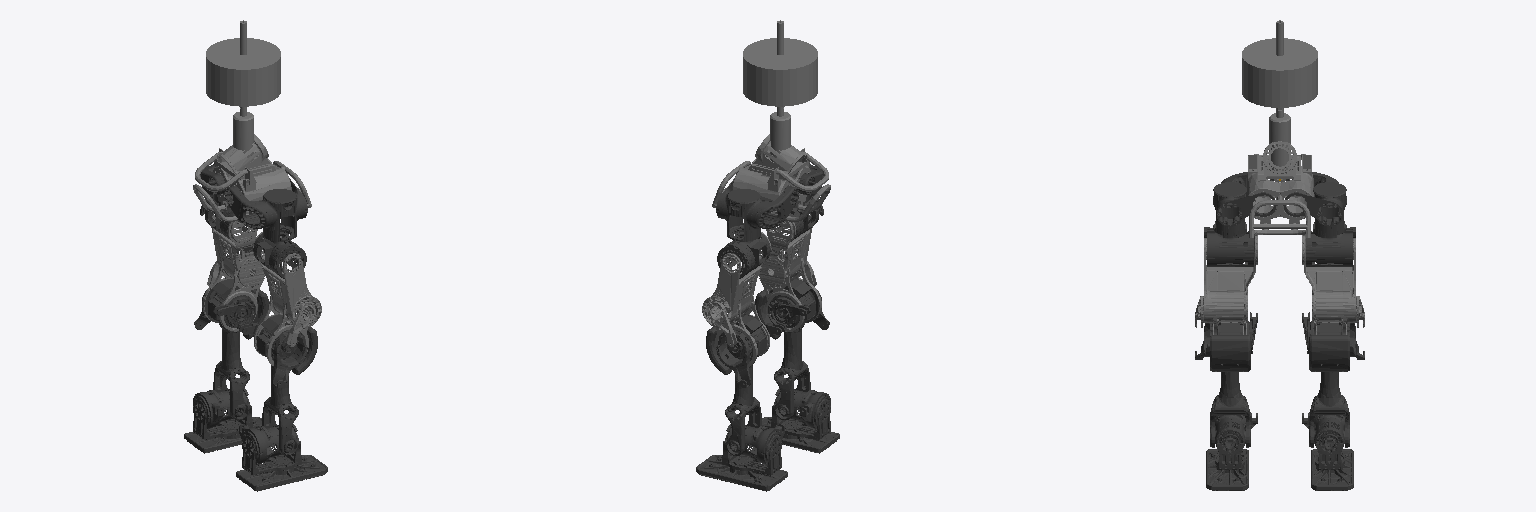
--- Facts derived from the render (not from the file) ---
Views: 3 orthographic renders of the robot side by side, from view 1: azimuth 30°, elevation 25°; view 2: azimuth 150°, elevation 25°; view 3: azimuth 270°, elevation 25°.
Robot: bigman — 33 links, 32 joints (12 revolute, 20 fixed); root link Waist; default pose: all joints at 0.
Visible links, largest first — view 1: ExtraWeight, LLowLeg, RLowLeg, Waist, RThighLowLeg, LThighLowLeg, RHipMot, RFoot, LFoot, RThighUpLeg, PelvisWeightBench, RFootmot (+1 smaller); view 2: ExtraWeight, RLowLeg, LLowLeg, Waist, LThighLowLeg, RThighLowLeg, LHipMot, LFoot, RFoot, PelvisWeightBench, LThighUpLeg, LFootmot (+1 smaller); view 3: ExtraWeight, Waist, RLowLeg, LLowLeg, RThighLowLeg, LThighLowLeg, RHipMot, LHipMot, RFoot, LFoot, RThighUpLeg, LThighUpLeg (+3 smaller).
Boxes of the visible links, x1,y1,x2,y2 form: ExtraWeight: (206, 38, 280, 106); LLowLeg: (194, 279, 268, 420); RLowLeg: (239, 315, 317, 455); Waist: (193, 134, 311, 222); RThighLowLeg: (252, 232, 321, 365); LThighLowLeg: (202, 212, 264, 331); RHipMot: (225, 178, 307, 241); RFoot: (236, 432, 327, 491); LFoot: (184, 396, 261, 453); RThighUpLeg: (253, 232, 306, 278); PelvisWeightBench: (218, 20, 268, 176); RFootmot: (239, 424, 297, 464); ExtraWeight: (743, 38, 817, 106); RLowLeg: (755, 279, 829, 420); LLowLeg: (706, 315, 784, 455); Waist: (712, 134, 830, 222); LThighLowLeg: (702, 232, 771, 365); RThighLowLeg: (759, 212, 821, 331); LHipMot: (716, 178, 798, 241); LFoot: (696, 432, 787, 491); RFoot: (762, 396, 839, 453); PelvisWeightBench: (755, 20, 805, 176); LThighUpLeg: (717, 232, 770, 278); LFootmot: (726, 424, 784, 464); ExtraWeight: (1242, 38, 1317, 107); Waist: (1246, 141, 1313, 237); RLowLeg: (1195, 312, 1257, 447); LLowLeg: (1302, 312, 1364, 447); RThighLowLeg: (1195, 235, 1257, 334); LThighLowLeg: (1302, 235, 1364, 334); RHipMot: (1213, 172, 1276, 237); LHipMot: (1283, 172, 1346, 237); RFoot: (1206, 426, 1248, 490); LFoot: (1311, 426, 1353, 490); RThighUpLeg: (1204, 227, 1253, 266); LThighUpLeg: (1306, 227, 1355, 266).
Size in the robot's own frame: 0.4355 by 0.6161 by 1.79 metres.
Meshes: 8 distinct files referenced, 14 mesh visuals loaded (8 binary STL).

URDF robot description (bigman):
<?xml version="1.0" ?>
<!-- =================================================================================== -->
<!-- |    This document was autogenerated by xacro from bigman_floating_base_lower_body.urdf.xacro | -->
<!-- |    EDITING THIS FILE BY HAND IS NOT RECOMMENDED                                 | -->
<!-- =================================================================================== -->
<robot name="bigman" xmlns:xacro="http://ros.org/wiki/xacro">
  <!--
  ROS urdf definition of the BIGMAN humanoid robot by Istituto Italiano di Tecnologia
  
  Author: Enrico Mingo
  
  This file groups files to use BIGMAN in GAZEBO
  
  -->
  <!-- Uncomment this to have the robot rigidly connected to the world -->
  <!--<link name="world"/>-->
  <!---->
  <!--<joint name="floating_base" type="floating">-->
  <!--<parent link="world"/>-->
  <!--<child link="base_link"/>-->
  <!--</joint>-->
  <!--<origin xyz="0.0 0.0 1.17" rpy="0 0 0" /> -->
  <!-- ROBOT -->
  <!-- 
  ROS urdf definition of the BIGMAN humanoid robot by Istituto Italiano di Tecnologia
  
  DO NOT INCLUDE THIS FILE DIRECTLY! USE bigman_robot.urdf.xacro INSTEAD!

  Author: Enrico Mingo & Alessio Rocchi

  Inertial matrix has to be in CoM frame (URDF specs)

  Velocity and effort limits are fake!
-->
  <!-- contact urdf for foot surface -->
  <gazebo reference="LFoot">
    <kp>1000000.0</kp>
    <kd>100.0</kd>
    <mu1>1.0</mu1>
    <mu2>1.0</mu2>
    <fdir1>1 0 0</fdir1>
    <maxVel>1.0</maxVel>
    <minDepth>0.0</minDepth>
  </gazebo>
  <gazebo reference="RFoot">
    <kp>1000000.0</kp>
    <kd>100.0</kd>
    <mu1>1.0</mu1>
    <mu2>1.0</mu2>
    <fdir1>1 0 0</fdir1>
    <maxVel>1.0</maxVel>
    <minDepth>0.0</minDepth>
  </gazebo>
  <gazebo reference="LLowLeg">
    <kp>1000000.0</kp>
    <kd>100.0</kd>
    <mu1>0.3</mu1>
    <mu2>0.3</mu2>
    <fdir1>1 0 0</fdir1>
    <maxVel>1.0</maxVel>
    <minDepth>0.0</minDepth>
  </gazebo>
  <gazebo reference="RLowLeg">
    <kp>1000000.0</kp>
    <kd>100.0</kd>
    <mu1>0.3</mu1>
    <mu2>0.3</mu2>
    <fdir1>1 0 0</fdir1>
    <maxVel>1.0</maxVel>
    <minDepth>0.0</minDepth>
  </gazebo>
  <!-- Other parameters... -->
  <gazebo reference="RHipSag">
    <implicitSpringDamper>1</implicitSpringDamper>
    <provideFeedback>true</provideFeedback>
  </gazebo>
  <gazebo reference="RHipLat">
    <implicitSpringDamper>1</implicitSpringDamper>
    <provideFeedback>true</provideFeedback>
  </gazebo>
  <gazebo reference="RHipYaw">
    <implicitSpringDamper>1</implicitSpringDamper>
    <provideFeedback>true</provideFeedback>
  </gazebo>
  <gazebo reference="RKneeSag">
    <implicitSpringDamper>1</implicitSpringDamper>
    <provideFeedback>true</provideFeedback>
  </gazebo>
  <gazebo reference="RAnkLat">
    <implicitSpringDamper>1</implicitSpringDamper>
    <provideFeedback>true</provideFeedback>
  </gazebo>
  <gazebo reference="RAnkSag">
    <implicitSpringDamper>1</implicitSpringDamper>
    <provideFeedback>true</provideFeedback>
  </gazebo>
  <gazebo reference="LHipSag">
    <implicitSpringDamper>1</implicitSpringDamper>
    <provideFeedback>true</provideFeedback>
  </gazebo>
  <gazebo reference="LHipLat">
    <implicitSpringDamper>1</implicitSpringDamper>
    <provideFeedback>true</provideFeedback>
  </gazebo>
  <gazebo reference="LHipYaw">
    <implicitSpringDamper>1</implicitSpringDamper>
    <provideFeedback>true</provideFeedback>
  </gazebo>
  <gazebo reference="LKneeSag">
    <implicitSpringDamper>1</implicitSpringDamper>
    <provideFeedback>true</provideFeedback>
  </gazebo>
  <gazebo reference="LAnkLat">
    <implicitSpringDamper>1</implicitSpringDamper>
    <provideFeedback>true</provideFeedback>
  </gazebo>
  <gazebo reference="LAnkSag">
    <implicitSpringDamper>1</implicitSpringDamper>
    <provideFeedback>true</provideFeedback>
  </gazebo>
  <material name="grey">
    <color rgba="0.5 0.5 0.5 1"/>
  </material>
  <material name="dark_grey">
    <color rgba="0.3 0.3 0.3 1"/>
  </material>
  <material name="blue">
    <color rgba="0.0 0.2 0.3 1"/>
  </material>
  <!--
      ROS urdf definition of the BIGMAN humanoid robot by Istituto Italiano di Tecnologia

      DO NOT INCLUDE THIS FILE DIRECTLY! USE bigman_robot.urdf.xacro INSTEAD!

      Author: Enrico Mingo & Alessio Rocchi

      Inertial matrix has to be in CoM frame (URDF specs)

      Velocity and effort limits are fake!
    -->
  <!--
    The coordinate frame called base_link is rigidly attached to the robot root body. It is recommended to choose the robot waist as its root body. The base_link can be attached to the root in any arbitrary position or orientation; for every hardware platform there will be a different place on the base that provides an obvious point of reference. Note that REP 103 [1] specifies a preferred orientation for frames. -->
  <!--<link name="base_link"/>-->
  <!--<joint name="base_joint" type="fixed">-->
  <!--<parent link="base_link"/>-->
  <!--<child link="Waist"/>-->
  <!--<origin xyz="0 0 0" rpy="0 0 0"/>-->
  <!--</joint>-->
  <link name="Waist">
    <inertial>
      <origin rpy="0.0 0.0 0.0" xyz="-0.022813402 -0.00073935443 0.030422909"/>
      <mass value="1.1046081e+01"/>
      <inertia ixx="0.096207978" ixy="0.00014081043" ixz="0.0031258127" iyy="0.098511158" iyz="0.00013938149" izz="0.086541531"/>
    </inertial>
    <visual>
      <origin rpy="0 0 0" xyz="0 0 0"/>
      <geometry name="Waist_visual">
        <mesh filename="meshes/Waist.STL" scale="0.001 0.001 0.001"/>
      </geometry>
      <material name="grey"/>
    </visual>
    <collision>
      <origin rpy="0 0 0" xyz="0 0 0"/>
      <geometry name="Waist_collision">
        <mesh filename="meshes/simple/Waist.STL" scale="0.001 0.001 0.001"/>
      </geometry>
    </collision>
  </link>
  <!-- ******************************************** -->
  <link name="PelvisWeightBench">
    <inertial>
      <origin rpy="0 0 0" xyz="0.0 0.0 0.18846109"/>
      <mass value="5.5278386"/>
      <inertia ixx="0.15195067" ixy="0.0" ixz="-2.419189e-07" iyy="0.15213465" iyz="0.0" izz="0.0051389419"/>
    </inertial>
    <visual>
      <origin rpy="0 0 0" xyz="0 0 0"/>
      <geometry name="PelvisWeightBench_visual">
        <mesh filename="meshes/PelvisWeightBench.STL" scale="0.001 0.001 0.001"/>
      </geometry>
      <material name="grey"/>
    </visual>
    <collision>
      <origin rpy="0 0 0" xyz="0 0 0"/>
      <geometry name="PelvisWeightBench_collision">
        <mesh filename="meshes/simple/PelvisWeightBench.STL" scale="0.001 0.001 0.001"/>
      </geometry>
    </collision>
  </link>
  <link name="ExtraWeight">
    <inertial>
      <origin rpy="0 0 0" xyz="0.0 0.0 0.075"/>
      <mass value="20.0"/>
      <inertia ixx="0.1355" ixy="0.0" ixz="0.0" iyy="0.1355" iyz="0.0" izz="0.196"/>
    </inertial>
    <visual>
      <origin rpy="0 0 0" xyz="0 0 0"/>
      <geometry name="ExtraWeight_visual">
        <cylinder length="0.15" radius="0.14"/>
      </geometry>
      <material name="grey"/>
    </visual>
    <collision>
      <origin rpy="0 0 0" xyz="0 0 0"/>
      <geometry name="ExtraWeight_collision">
        <cylinder length="0.15" radius="0.14"/>
      </geometry>
    </collision>
  </link>
  <joint name="PelvisWeightBench_joint" type="fixed">
    <parent link="Waist"/>
    <child link="PelvisWeightBench"/>
    <origin rpy="0 0 1.57079632679" xyz="-0.035 0 0.075"/>
  </joint>
  <joint name="ExtraWeight_joint" type="fixed">
    <parent link="PelvisWeightBench"/>
    <child link="ExtraWeight"/>
    <origin rpy="0 0 0" xyz="0.0 0 0.39"/>
  </joint>
  <!-- ********************LEGS******************** -->
  <!-- This links are defined in order to be compliant with http://www.ros.org/reps/rep-0120.html#coordinate-frames
        and to define the end effectors of the robot -->
  <!--  position and orientation of the leg regardless of the support body geometry -->
  <link name="l_ankle"/>
  <link name="r_ankle"/>
  <!-- position and orientation of the left leg support body. The (X,Y) plane of this frame must be coplanar with the support body contact surface. It is recommended to choose the origin as the projection of the support body origin on the contact surface. The Z coordinate of this frame should be on the ground level when standing. -->
  <link name="l_sole"/>
  <link name="r_sole"/>
  <!--  position and orientation of the leg toe body. The (X,Y) plan of this frame must be coplanar with the toe body contact surface. It is recommended to choose the origin as the projection of the body center on the contact surface. -->
  <link name="l_toe"/>
  <link name="r_toe"/>
  <!-- LINKS -->
  <!-- ********************RIGHT LEG******************** -->
  <link name="RHipMot">
    <inertial>
      <origin rpy="0 0 0" xyz="-0.10348188 -0.10919813 -0.064924056"/>
      <mass value="3.7958197"/>
      <inertia ixx="0.015639017" ixy="0.0018504661" ixz="0.0023907793" iyy="0.023519749" iyz="-0.0023303162" izz="0.020953643"/>
    </inertial>
    <visual>
      <origin rpy="0 0 0" xyz="0 0 0"/>
      <geometry name="RHipMot_visual">
        <mesh filename="meshes/HipRoll.STL" scale="0.001 0.001 0.001"/>
      </geometry>
      <material name="dark_grey"/>
    </visual>
    <collision>
      <origin rpy="0 0 0" xyz="0 0 0"/>
      <geometry name="RHipMot_collision">
        <mesh filename="meshes/simple/HipRoll.STL" scale="0.001 0.001 0.001"/>
      </geometry>
    </collision>
  </link>
  <link name="RThighUpLeg">
    <inertial>
      <origin rpy="0 0 0" xyz="-0.0052929709 -0.022561833 0.0056701669"/>
      <mass value="3.2402068"/>
      <inertia ixx="0.010102097" ixy="0.00010858487" ixz="0.00025291395" iyy="0.0067147" iyz="8.3447072e-05" izz="0.01048513"/>
    </inertial>
    <visual>
      <origin rpy="0 0 0" xyz="0 0 0"/>
      <geometry name="RThighUpLeg_visual">
        <mesh filename="meshes/HipYaw.STL" scale="0.001 0.001 0.001"/>
      </geometry>
      <material name="dark_grey"/>
    </visual>
    <collision>
      <origin rpy="0 0 0" xyz="0 0 0"/>
      <geometry name="RThighUpLeg_collision">
        <mesh filename="meshes/simple/HipYaw.STL" scale="0.001 0.001 0.001"/>
      </geometry>
    </collision>
  </link>
  <link name="RThighLowLeg">
    <inertial>
      <origin rpy="0 0 0" xyz="0.037746286 -0.028539939 -0.19310133"/>
      <mass value="5.0950736"/>
      <inertia ixx="0.051607858" ixy="0.0022253472" ixz="0.002452979" iyy="0.044349153" iyz="-0.0041006942" izz="0.023374453"/>
    </inertial>
    <visual>
      <origin rpy="0 0 0" xyz="0 0 0"/>
      <geometry name="RThighLowLeg_visual">
        <mesh filename="meshes/HipPitch.STL" scale="0.001 0.001 0.001"/>
      </geometry>
      <material name="grey"/>
    </visual>
    <collision>
      <origin rpy="0 0 0" xyz="0 0 0"/>
      <geometry name="RThighLowLeg_collision">
        <mesh filename="meshes/simple/HipPitch.STL" scale="0.001 0.001 0.001"/>
      </geometry>
    </collision>
  </link>
  <link name="RLowLeg">
    <inertial>
      <origin rpy="0 0 0" xyz="-0.0050828668 0.0037732093 -0.072605017"/>
      <mass value="5.6495309"/>
      <inertia ixx="0.10535542" ixy="-0.00058199221" ixz="0.0016743598" iyy="0.097857796" iyz="-0.0033770181" izz="0.020854086"/>
    </inertial>
    <visual>
      <origin rpy="0 0 0" xyz="0 0 0"/>
      <geometry name="RLowLeg_visual">
        <mesh filename="meshes/KneePitchCalf.STL" scale="0.001 0.001 0.001"/>
      </geometry>
      <material name="dark_grey"/>
    </visual>
    <collision>
      <origin rpy="0 0 0" xyz="0 0 0"/>
      <geometry name="RLowLeg_collision">
        <mesh filename="meshes/simple/KneePitchCalf.STL" scale="0.001 0.001 0.001"/>
      </geometry>
    </collision>
  </link>
  <link name="RFootmot">
    <inertial>
      <origin rpy="0 0 0" xyz="-0.022024173 0.0025677238 0.00094588455"/>
      <mass value="3.2844159"/>
      <inertia ixx="0.0075550679" ixy="0.00067488292" ixz="5.8332889e-05" iyy="0.011241163" iyz="-0.00014552081" izz="0.013391865"/>
    </inertial>
    <visual>
      <origin rpy="0 0 0" xyz="0 0 0"/>
      <geometry name="RFootmot_visual">
        <mesh filename="meshes/AnklePitch.STL" scale="0.001 0.001 0.001"/>
      </geometry>
      <material name="dark_grey"/>
    </visual>
    <collision>
      <origin rpy="0 0 0" xyz="0 0 0"/>
      <geometry name="RFootmot_collision">
        <mesh filename="meshes/simple/AnklePitch.STL" scale="0.001 0.001 0.001"/>
      </geometry>
    </collision>
  </link>
  <link name="RFoot">
    <inertial>
      <origin rpy="0 0 0" xyz="-0.00653584 -0.00479384 -0.10180375"/>
      <mass value="3.42638110"/>
      <inertia ixx="0.01032886" ixy="-0.00016407" ixz="-0.00201294" iyy="0.02854025" iyz="0.00046315" izz="0.02799499"/>
    </inertial>
    <visual>
      <origin rpy="0 0 0" xyz="0 0 0"/>
      <geometry name="RFoot_visual">
        <mesh filename="meshes/NewFoot.STL" scale="0.001 0.001 0.001"/>
      </geometry>
      <material name="dark_grey"/>
    </visual>
    <collision>
      <origin rpy="0 0 0" xyz="0.005 -0.01 -0.1359"/>
      <geometry>
        <box size="0.32 0.16 0.015"/>
      </geometry>
    </collision>
  </link>
  <!-- ********************LEFT LEG******************** -->
  <link name="LHipMot">
    <inertial>
      <origin rpy="0 0 0" xyz="-0.10348188 0.10919813 -0.064924056"/>
      <mass value="3.7958197"/>
      <inertia ixx="0.015639017" ixy="-0.0018504661" ixz="0.0023907793" iyy="0.023519749" iyz="0.0023303162" izz="0.020953643"/>
    </inertial>
    <visual>
      <origin rpy="0 0 0" xyz="0 0 0"/>
      <geometry name="LHipMot_visual">
        <mesh filename="meshes/HipRoll.STL" scale="0.001 -0.001 0.001"/>
      </geometry>
      <material name="dark_grey"/>
    </visual>
    <collision>
      <origin rpy="0 0 0" xyz="0 0 0"/>
      <geometry name="LHipMot_collision">
        <mesh filename="meshes/simple/HipRoll.STL" scale="0.001 -0.001 0.001"/>
      </geometry>
    </collision>
  </link>
  <link name="LThighUpLeg">
    <inertial>
      <origin rpy="0 0 0" xyz="-0.0052929709 0.022561833 0.0056701669"/>
      <mass value="3.2402068"/>
      <inertia ixx="0.010102097" ixy="-0.00010858487" ixz="0.00025291395" iyy="0.0067147" iyz="-8.3447072e-05" izz="0.01048513"/>
    </inertial>
    <visual>
      <origin rpy="0 0 0" xyz="0 0 0"/>
      <geometry name="LThighUpLeg_visual">
        <mesh filename="meshes/HipYaw.STL" scale="0.001 -0.001 0.001"/>
      </geometry>
      <material name="dark_grey"/>
    </visual>
    <collision>
      <origin rpy="0 0 0" xyz="0 0 0"/>
      <geometry name="LThighUpLeg_collision">
        <mesh filename="meshes/simple/HipYaw.STL" scale="0.001 -0.001 0.001"/>
      </geometry>
    </collision>
  </link>
  <link name="LThighLowLeg">
    <inertial>
      <origin rpy="0 0 0" xyz="0.037746286 0.028539939 -0.19310133"/>
      <mass value="5.0950736"/>
      <inertia ixx="0.051607858" ixy="-0.0022253472" ixz="0.002452979" iyy="0.044349153" iyz="0.0041006942" izz="0.023374453"/>
    </inertial>
    <visual>
      <origin rpy="0 0 0" xyz="0 0 0"/>
      <geometry name="LThighLowLeg_visual">
        <mesh filename="meshes/HipPitch.STL" scale="0.001 -0.001 0.001"/>
      </geometry>
      <material name="grey"/>
    </visual>
    <collision>
      <origin rpy="0 0 0" xyz="0 0 0"/>
      <geometry name="LThighLowLeg_collision">
        <mesh filename="meshes/simple/HipPitch.STL" scale="0.001 -0.001 0.001"/>
      </geometry>
    </collision>
  </link>
  <link name="LLowLeg">
    <inertial>
      <origin rpy="0 0 0" xyz="-0.0050828668 -0.0037732093 -0.072605017"/>
      <mass value="5.6495309"/>
      <inertia ixx="0.10535542" ixy="0.00058199221" ixz="0.0016743598" iyy="0.097857796" iyz="0.0033770181" izz="0.020854086"/>
    </inertial>
    <visual>
      <origin rpy="0 0 0" xyz="0 0 0"/>
      <geometry name="LLowLeg_visual">
        <mesh filename="meshes/KneePitchCalf.STL" scale="0.001 -0.001 0.001"/>
      </geometry>
      <material name="dark_grey"/>
    </visual>
    <collision>
      <origin rpy="0 0 0" xyz="0 0 0"/>
      <geometry name="LLowLeg_collision">
        <mesh filename="meshes/simple/KneePitchCalf.STL" scale="0.001 -0.001 0.001"/>
      </geometry>
    </collision>
  </link>
  <link name="LFootmot">
    <inertial>
      <origin rpy="0 0 0" xyz="-0.022024173 -0.0025677238 0.00094588455"/>
      <mass value="3.2844159"/>
      <inertia ixx="0.0075550679" ixy="-0.00067488292" ixz="5.8332889e-05" iyy="0.011241163" iyz="0.00014552081" izz="0.013391865"/>
    </inertial>
    <visual>
      <origin rpy="0 0 0" xyz="0 0 0"/>
      <geometry name="LFootmot_visual">
        <mesh filename="meshes/AnklePitch.STL" scale="0.001 -0.001 0.001"/>
      </geometry>
      <material name="dark_grey"/>
    </visual>
    <collision>
      <origin rpy="0 0 0" xyz="0 0 0"/>
      <geometry name="LFootmot_collision">
        <mesh filename="meshes/simple/AnklePitch.STL" scale="0.001 -0.001 0.001"/>
      </geometry>
    </collision>
  </link>
  <link name="LFoot">
    <inertial>
      <origin rpy="0 0 0" xyz="-0.00653584 0.00479384 -0.10180375"/>
      <mass value="3.42638110"/>
      <inertia ixx="0.01032886" ixy="-0.00016407" ixz="-0.00201294" iyy="0.02854025" iyz="0.00046315" izz="0.02799499"/>
    </inertial>
    <visual>
      <origin rpy="0 0 0" xyz="0 0 0"/>
      <geometry name="LFoot_visual">
        <mesh filename="meshes/NewFoot.STL" scale="0.001 -0.001 0.001"/>
      </geometry>
      <material name="dark_grey"/>
    </visual>
    <collision>
      <origin rpy="0 0 0" xyz="0.005 0.01 -0.1359"/>
      <geometry>
        <box size="0.32 0.16 0.015"/>
      </geometry>
    </collision>
  </link>
  <!-- JOINTS -->
  <!-- ********************RIGHT LEG******************** -->
  <joint name="RHipLat" type="revolute">
    <parent link="Waist"/>
    <child link="RHipMot"/>
    <origin rpy="0 0 0" xyz="0.1059 -0.06 0.0"/>
    <axis xyz="1 0 0"/>
    <limit effort="220" lower="-0.87222" upper="0.697778" velocity="6.283"/>
    <dynamics damping="3.0" friction="0"/>
  </joint>
  <joint name="RHipYaw" type="revolute">
    <parent link="RHipMot"/>
    <child link="RThighUpLeg"/>
    <origin rpy="0 0 0" xyz="-0.0889 -0.121032 -0.217872"/>
    <axis xyz="0 0 1"/>
    <limit effort="120" lower="-1.57" upper="0.872222" velocity="6.283"/>
    <dynamics damping="3.0" friction="0"/>
  </joint>
  <joint name="RHipSag" type="revolute">
    <parent link="RThighUpLeg"/>
    <child link="RThighLowLeg"/>
    <origin rpy="0 0 0" xyz="0.0 0.0 0.0"/>
    <axis xyz="0 1 0"/>
    <limit effort="220" lower="-2.09333" upper="1.046667" velocity="6.283"/>
    <dynamics damping="3.0" friction="0"/>
  </joint>
  <joint name="RKneeSag" type="revolute">
    <parent link="RThighLowLeg"/>
    <child link="RLowLeg"/>
    <origin rpy="0 0 0" xyz="0.0 0.0 -0.356"/>
    <axis xyz="0 1 0"/>
    <limit effort="220" lower="0.0" upper="2.442222" velocity="6.283"/>
    <dynamics damping="3.0" friction="0"/>
  </joint>
  <joint name="RAnkSag" type="revolute">
    <parent link="RLowLeg"/>
    <child link="RFootmot"/>
    <origin rpy="0 0 0" xyz="0.0 0.0 -0.4"/>
    <axis xyz="0 1 0"/>
    <limit effort="220" lower="-1.39556" upper="0.697778" velocity="6.283"/>
    <dynamics damping="3.0" friction="0"/>
  </joint>
  <joint name="RAnkLat" type="revolute">
    <parent link="RFootmot"/>
    <child link="RFoot"/>
    <origin rpy="0 0 0" xyz="0.0 0.0 0.0"/>
    <axis xyz="1 0 0"/>
    <limit effort="120" lower="-0.785" upper="0.785" velocity="6.283"/>
    <dynamics damping="3.0" friction="0"/>
  </joint>
  <!-- ********************LEFT LEG******************** -->
  <joint name="LHipLat" type="revolute">
    <parent link="Waist"/>
    <child link="LHipMot"/>
    <origin rpy="0 0 0" xyz="0.1059 0.06 0.0"/>
    <axis xyz="1 0 0"/>
    <limit effort="220" lower="-0.697778" upper="0.87222" velocity="6.283"/>
    <dynamics damping="3.0" friction="0"/>
  </joint>
  <joint name="LHipYaw" type="revolute">
    <parent link="LHipMot"/>
    <child link="LThighUpLeg"/>
    <origin rpy="0 0 0" xyz="-0.0889 0.121032 -0.217872"/>
    <axis xyz="0 0 1"/>
    <limit effort="120" lower="-0.872222" upper="1.57" velocity="6.283"/>
    <dynamics damping="3.0" friction="0"/>
  </joint>
  <joint name="LHipSag" type="revolute">
    <parent link="LThighUpLeg"/>
    <child link="LThighLowLeg"/>
    <origin rpy="0 0 0" xyz="0.0 0.0 0.0"/>
    <axis xyz="0 1 0"/>
    <limit effort="220" lower="-2.09333" upper="1.046667" velocity="6.283"/>
    <dynamics damping="3.0" friction="0"/>
  </joint>
  <joint name="LKneeSag" type="revolute">
    <parent link="LThighLowLeg"/>
    <child link="LLowLeg"/>
    <origin rpy="0 0 0" xyz="0.0 0.0 -0.356"/>
    <axis xyz="0 1 0"/>
    <limit effort="220" lower="0.0" upper="2.442222" velocity="6.283"/>
    <dynamics damping="3.0" friction="0"/>
  </joint>
  <joint name="LAnkSag" type="revolute">
    <parent link="LLowLeg"/>
    <child link="LFootmot"/>
    <origin rpy="0 0 0" xyz="0.0 0.0 -0.4"/>
    <axis xyz="0 1 0"/>
    <limit effort="220" lower="-1.39556" upper="0.697778" velocity="6.283"/>
    <dynamics damping="3.0" friction="0"/>
  </joint>
  <joint name="LAnkLat" type="revolute">
    <parent link="LFootmot"/>
    <child link="LFoot"/>
    <origin rpy="0 0 0" xyz="0.0 0.0 0.0"/>
    <axis xyz="1 0 0"/>
    <limit effort="120" lower="-0.785" upper="0.785" velocity="6.283"/>
    <dynamics damping="3.0" friction="0"/>
  </joint>
  <joint name="l_ankle_joint" type="fixed">
    <parent link="LFoot"/>
    <child link="l_ankle"/>
    <origin rpy="0 0 0" xyz="0 0 0"/>
  </joint>
  <joint name="r_ankle_joint" type="fixed">
    <parent link="RFoot"/>
    <child link="r_ankle"/>
    <origin rpy="0 0 0" xyz="0 0 0"/>
  </joint>
  <joint name="l_sole_joint" type="fixed">
    <parent link="LFoot"/>
    <child link="l_sole"/>
    <origin rpy="0 0 0" xyz="0 0 -0.1435"/>
  </joint>
  <joint name="r_sole_joint" type="fixed">
    <parent link="RFoot"/>
    <child link="r_sole"/>
    <origin rpy="0 0 0" xyz="0 0 -0.1435"/>
  </joint>
  <joint name="l_toe_joint" type="fixed">
    <parent link="l_sole"/>
    <child link="l_toe"/>
    <origin rpy="0 0 0" xyz="0.16 0 0"/>
  </joint>
  <joint name="r_toe_joint" type="fixed">
    <parent link="r_sole"/>
    <child link="r_toe"/>
    <origin rpy="0 0 0" xyz="0.16 0 0"/>
  </joint>
  <!-- macro for one reference frame in foot -->
  <link name="l_foot_upper_right_link"/>
  <joint name="l_foot_upper_right_joint" type="fixed">
    <origin rpy="0 0 0" xyz="0.16 -0.07 0"/>
    <parent link="l_sole"/>
    <child link="l_foot_upper_right_link"/>
  </joint>
  <!-- macro for one reference frame in foot -->
  <link name="l_foot_upper_left_link"/>
  <joint name="l_foot_upper_left_joint" type="fixed">
    <origin rpy="0 0 0" xyz="0.16 0.09 0"/>
    <parent link="l_sole"/>
    <child link="l_foot_upper_left_link"/>
  </joint>
  <!-- macro for one reference frame in foot -->
  <link name="l_foot_lower_right_link"/>
  <joint name="l_foot_lower_right_joint" type="fixed">
    <origin rpy="0 0 0" xyz="-0.16 -0.07 0"/>
    <parent link="l_sole"/>
    <child link="l_foot_lower_right_link"/>
  </joint>
  <!-- macro for one reference frame in foot -->
  <link name="l_foot_lower_left_link"/>
  <joint name="l_foot_lower_left_joint" type="fixed">
    <origin rpy="0 0 0" xyz="-0.16 0.09 0"/>
    <parent link="l_sole"/>
    <child link="l_foot_lower_left_link"/>
  </joint>
  <!-- macro for one reference frame in foot -->
  <link name="r_foot_upper_right_link"/>
  <joint name="r_foot_upper_right_joint" type="fixed">
    <origin rpy="0 0 0" xyz="0.16 0.07 0"/>
    <parent link="r_sole"/>
    <child link="r_foot_upper_right_link"/>
  </joint>
  <!-- macro for one reference frame in foot -->
  <link name="r_foot_upper_left_link"/>
  <joint name="r_foot_upper_left_joint" type="fixed">
    <origin rpy="0 0 0" xyz="0.16 -0.09 0"/>
    <parent link="r_sole"/>
    <child link="r_foot_upper_left_link"/>
  </joint>
  <!-- macro for one reference frame in foot -->
  <link name="r_foot_lower_right_link"/>
  <joint name="r_foot_lower_right_joint" type="fixed">
    <origin rpy="0 0 0" xyz="-0.16 0.07 0"/>
    <parent link="r_sole"/>
    <child link="r_foot_lower_right_link"/>
  </joint>
  <!-- macro for one reference frame in foot -->
  <link name="r_foot_lower_left_link"/>
  <joint name="r_foot_lower_left_joint" type="fixed">
    <origin rpy="0 0 0" xyz="-0.16 -0.09 0"/>
    <parent link="r_sole"/>
    <child link="r_foot_lower_left_link"/>
  </joint>
  <!-- ***** LEGS F/T SENSOR REF FRAMES *******-->
  <link name="l_leg_ft"/>
  <link name="r_leg_ft"/>
  <joint name="l_leg_ft_joint" type="fixed">
    <parent link="LFoot"/>
    <child link="l_leg_ft"/>
    <origin rpy="0 0 0" xyz="0.005 0 -0.107"/>
  </joint>
  <joint name="r_leg_ft_joint" type="fixed">
    <parent link="RFoot"/>
    <child link="r_leg_ft"/>
    <origin rpy="0 0 0" xyz="0.005 0 -0.107"/>
  </joint>
  <link name="imu_link">
    <inertial>
      <mass value="0.01"/>
      <origin xyz="0 0 0"/>
      <inertia ixx="1.0E-6" ixy="0" ixz="0" iyy="1.0E-6" iyz="0" izz="1.0E-6"/>
    </inertial>
    <visual>
      <origin rpy="0 0 0" xyz="0 0 0"/>
      <geometry>
        <box size="0.01 0.01 0.01"/>
      </geometry>
    </visual>
  </link>
  <link name="imu_link2">
    <inertial>
      <mass value="0.01"/>
      <origin xyz="0 0 0"/>
      <inertia ixx="1.0E-6" ixy="0" ixz="0" iyy="1.0E-6" iyz="0" izz="1.0E-6"/>
    </inertial>
    <visual>
      <origin rpy="0 0 0" xyz="0 0 0"/>
      <geometry>
        <box size="0.01 0.01 0.01"/>
      </geometry>
    </visual>
  </link>
  <joint name="imu_joint" type="fixed">
    <parent link="Waist"/>
    <child link="imu_link"/>
    <origin rpy="0 0 0" xyz="0.0535 0.0 0.0601"/>
  </joint>
  <joint name="imu_joint2" type="fixed">
    <parent link="Waist"/>
    <child link="imu_link2"/>
    <origin rpy="0 0 0" xyz="0.0135 0.0 0.0601"/>
  </joint>
  <origin rpy="0 0 0" xyz="0.0 0.0 1.12"/>
  <!--
      ROS urdf definition of the BIGMAN humanoid robot by Istituto Italiano di Tecnologia

      Author: Alessio Rocchi

      This file groups files to use BIGMAN in GAZEBO

      -->
  <!--&lt;!&ndash; IMU plugin &ndash;&gt;-->
  <!--<gazebo>-->
  <!--<plugin name="imu_plugin" filename="libgazebo_ros_imu.so">-->
  <!--<alwaysOn>true</alwaysOn>-->
  <!--<bodyName>Waist</bodyName>-->
  <!--<topicName>/bigman/sensor/IMU</topicName>-->
  <!--<serviceName>imu_service</serviceName>-->
  <!--<gaussianNoise>0.0</gaussianNoise>-->
  <!--<updateRate>1000</updateRate>-->
  <!--</plugin>-->
  <!--</gazebo>-->
  <!--
    <gazebo reference="imu_link">
        <sensor name="imu_sensor" type="imu">
            <always_on>1</always_on>
            <update_rate>1000</update_rate>
            <visualize>true</visualize>
            <topic>__default_topic__</topic>
            <imu>
                <noise>
                    <type>gaussian</type>
                    <rate>
                        <mean>0.0</mean>
                        <stddev>2e-4</stddev>
                        <bias_mean>0.0000075</bias_mean>
                        <bias_stddev>0.0000008</bias_stddev>
                    </rate>
                    <accel>
                        <mean>0.0</mean>
                        <stddev>1.7e-2</stddev>
                        <bias_mean>0.1</bias_mean>
                        <bias_stddev>0.001</bias_stddev>
                    </accel>
                </noise>
            </imu>
            <plugin name="bigman_yarp_gazebo_plugin_IMU" filename="libgazebo_yarp_imu.so">
                <yarpConfigurationFile>urdf://bigman_urdf/conf/bigman/bigman_gazebo_inertial.ini
                </yarpConfigurationFile>
            </plugin>
        </sensor>
    </gazebo>

    <gazebo reference="imu_link2">
        <sensor name="imu_sensor2" type="imu">
            <always_on>1</always_on>
            <update_rate>1000</update_rate>
            <visualize>true</visualize>
            <topic>__default_topic__</topic>
            <imu>

                <noise>
                 <type>gaussian</type>
                  <rate>
                   <mean>0.0</mean>
                   <stddev>2e-4</stddev>
                   <bias_mean>0.0000075</bias_mean>
                   <bias_stddev>0.0000008</bias_stddev>
                  </rate>
                  <accel>
                   <mean>0.0</mean>
                   <stddev>1.7e-2</stddev>
                   <bias_mean>0.1</bias_mean>
                   <bias_stddev>0.001</bias_stddev>
                  </accel>
                </noise>

            </imu>
            <plugin name="bigman_yarp_gazebo_plugin_IMU2" filename="libgazebo_yarp_imu.so">
                <yarpConfigurationFile>urdf://bigman_urdf/conf/bigman/bigman_gazebo_inertial2.ini
                </yarpConfigurationFile>
            </plugin>
        </sensor>
    </gazebo>

-->
  <!-- ros_control plugin -->
  <gazebo>
    <plugin filename="libgazebo_ros_control.so" name="gazebo_ros_control">
      <robotNamespace>/bigman</robotNamespace>
      <robotSimType>gazebo_ros_control/DefaultRobotHWSim</robotSimType>
    </plugin>
  </gazebo>
  <!-- ************ Transmition ************ -->
  <transmission name="tran17">
    <type>transmission_interface/SimpleTransmission</type>
    <joint name="LHipLat">
      <hardwareInterface>EffortJointInterface</hardwareInterface>
    </joint>
    <actuator name="motor_LHipLat">
      <hardwareInterface>EffortJointInterface</hardwareInterface>
      <mechanicalReduction>1</mechanicalReduction>
    </actuator>
  </transmission>
  <transmission name="tran18">
    <type>transmission_interface/SimpleTransmission</type>
    <joint name="LHipYaw">
      <hardwareInterface>EffortJointInterface</hardwareInterface>
    </joint>
    <actuator name="motor_LHipYaw">
      <hardwareInterface>EffortJointInterface</hardwareInterface>
      <mechanicalReduction>1</mechanicalReduction>
    </actuator>
  </transmission>
  <transmission name="tran19">
    <type>transmission_interface/SimpleTransmission</type>
    <joint name="LHipSag">
      <hardwareInterface>EffortJointInterface</hardwareInterface>
    </joint>
    <actuator name="motor_LHipSag">
      <hardwareInterface>EffortJointInterface</hardwareInterface>
      <mechanicalReduction>1</mechanicalReduction>
    </actuator>
  </transmission>
  <transmission name="tran20">
    <type>transmission_interface/SimpleTransmission</type>
    <joint name="LKneeSag">
      <hardwareInterface>EffortJointInterface</hardwareInterface>
    </joint>
    <actuator name="motor_LKneeSag">
      <hardwareInterface>EffortJointInterface</hardwareInterface>
      <mechanicalReduction>1</mechanicalReduction>
    </actuator>
  </transmission>
  <transmission name="tran21">
    <type>transmission_interface/SimpleTransmission</type>
    <joint name="LAnkSag">
      <hardwareInterface>EffortJointInterface</hardwareInterface>
    </joint>
    <actuator name="motor_LAnkSag">
      <hardwareInterface>EffortJointInterface</hardwareInterface>
      <mechanicalReduction>1</mechanicalReduction>
    </actuator>
  </transmission>
  <transmission name="tran22">
    <type>transmission_interface/SimpleTransmission</type>
    <joint name="LAnkLat">
      <hardwareInterface>EffortJointInterface</hardwareInterface>
    </joint>
    <actuator name="motor_LAnkLat">
      <hardwareInterface>EffortJointInterface</hardwareInterface>
      <mechanicalReduction>1</mechanicalReduction>
    </actuator>
  </transmission>
  <transmission name="tran23">
    <type>transmission_interface/SimpleTransmission</type>
    <joint name="RHipLat">
      <hardwareInterface>EffortJointInterface</hardwareInterface>
    </joint>
    <actuator name="motor_RHipLat">
      <hardwareInterface>EffortJointInterface</hardwareInterface>
      <mechanicalReduction>1</mechanicalReduction>
    </actuator>
  </transmission>
  <transmission name="tran24">
    <type>transmission_interface/SimpleTransmission</type>
    <joint name="RHipYaw">
      <hardwareInterface>EffortJointInterface</hardwareInterface>
    </joint>
    <actuator name="motor_RHipYaw">
      <hardwareInterface>EffortJointInterface</hardwareInterface>
      <mechanicalReduction>1</mechanicalReduction>
    </actuator>
  </transmission>
  <transmission name="tran25">
    <type>transmission_interface/SimpleTransmission</type>
    <joint name="RHipSag">
      <hardwareInterface>EffortJointInterface</hardwareInterface>
    </joint>
    <actuator name="motor_RHipSag">
      <hardwareInterface>EffortJointInterface</hardwareInterface>
      <mechanicalReduction>1</mechanicalReduction>
    </actuator>
  </transmission>
  <transmission name="tran26">
    <type>transmission_interface/SimpleTransmission</type>
    <joint name="RKneeSag">
      <hardwareInterface>EffortJointInterface</hardwareInterface>
    </joint>
    <actuator name="motor_RKneeSag">
      <hardwareInterface>EffortJointInterface</hardwareInterface>
      <mechanicalReduction>1</mechanicalReduction>
    </actuator>
  </transmission>
  <transmission name="tran27">
    <type>transmission_interface/SimpleTransmission</type>
    <joint name="RAnkSag">
      <hardwareInterface>EffortJointInterface</hardwareInterface>
    </joint>
    <actuator name="motor_RAnkSag">
      <hardwareInterface>EffortJointInterface</hardwareInterface>
      <mechanicalReduction>1</mechanicalReduction>
    </actuator>
  </transmission>
  <transmission name="tran28">
    <type>transmission_interface/SimpleTransmission</type>
    <joint name="RAnkLat">
      <hardwareInterface>EffortJointInterface</hardwareInterface>
    </joint>
    <actuator name="motor_RAnkLat">
      <hardwareInterface>EffortJointInterface</hardwareInterface>
      <mechanicalReduction>1</mechanicalReduction>
    </actuator>
  </transmission>
  <!-- The ft_sensor plugin -->
  <gazebo reference="LAnkLat">
    <provideFeedback>true</provideFeedback>
  </gazebo>
  <gazebo>
    <plugin filename="libgazebo_ros_ft_sensor.so" name="LAnkLat_ft_sensor">
      <updateRate>500.0</updateRate>
      <topicName>/bigman/sensor/ft_sensor/LAnkle</topicName>
      <jointName>LAnkLat</jointName>
    </plugin>
  </gazebo>
  <gazebo reference="RAnkLat">
    <provideFeedback>true</provideFeedback>
  </gazebo>
  <gazebo>
    <plugin filename="libgazebo_ros_ft_sensor.so" name="RAnkLat_ft_sensor">
      <updateRate>500.0</updateRate>
      <topicName>/bigman/sensor/ft_sensor/RAnkle</topicName>
      <jointName>RAnkLat</jointName>
    </plugin>
  </gazebo>
  <gazebo reference="LAnkLat">
    <sensor name="left_leg" type="force_torque">
      <force_torque>
        <frame>sensor</frame>
        <measure_direction>child_to_parent</measure_direction>
      </force_torque>
      <always_on>true</always_on>
      <visualize>true</visualize>
      <update_rate>1000</update_rate>
      <pose>0.005 0 -0.107 0 0 0</pose>
      <plugin filename="libgazebo_yarp_forcetorque.so" name="LAnkSag_FT_plugin">
        <yarpConfigurationFile>model://bigman_urdf/conf/bigman/bigman_gazebo_left_leg_ft.ini</yarpConfigurationFile>
      </plugin>
    </sensor>
  </gazebo>
  <gazebo reference="RAnkLat">
    <sensor name="right_leg" type="force_torque">
      <force_torque>
        <frame>sensor</frame>
        <measure_direction>child_to_parent</measure_direction>
      </force_torque>
      <always_on>true</always_on>
      <visualize>true</visualize>
      <update_rate>1000</update_rate>
      <pose>0.005 0 -0.107 0 0 0</pose>
      <plugin filename="libgazebo_yarp_forcetorque.so" name="RAnkSag_FT_plugin">
        <yarpConfigurationFile>model://bigman_urdf/conf/bigman/bigman_gazebo_right_leg_ft.ini</yarpConfigurationFile>
      </plugin>
    </sensor>
  </gazebo>
  <!-- contact urdf for foot surface -->
  <gazebo reference="LFoot">
    <kp>1000000.0</kp>
    <kd>100.0</kd>
    <mu1>1.0</mu1>
    <mu2>1.0</mu2>
    <fdir1>1 0 0</fdir1>
    <maxVel>1.0</maxVel>
    <minDepth>0.0</minDepth>
  </gazebo>
  <gazebo reference="RFoot">
    <kp>1000000.0</kp>
    <kd>100.0</kd>
    <mu1>1.0</mu1>
    <mu2>1.0</mu2>
    <fdir1>1 0 0</fdir1>
    <maxVel>1.0</maxVel>
    <minDepth>0.0</minDepth>
  </gazebo>
  <gazebo reference="LLowLeg">
    <kp>1000000.0</kp>
    <kd>100.0</kd>
    <mu1>0.3</mu1>
    <mu2>0.3</mu2>
    <fdir1>1 0 0</fdir1>
    <maxVel>1.0</maxVel>
    <minDepth>0.0</minDepth>
  </gazebo>
  <gazebo reference="RLowLeg">
    <kp>1000000.0</kp>
    <kd>100.0</kd>
    <mu1>0.3</mu1>
    <mu2>0.3</mu2>
    <fdir1>1 0 0</fdir1>
    <maxVel>1.0</maxVel>
    <minDepth>0.0</minDepth>
  </gazebo>
  <!-- Other parameters... -->
  <gazebo reference="RHipSag">
    <implicitSpringDamper>1</implicitSpringDamper>
    <provideFeedback>true</provideFeedback>
  </gazebo>
  <gazebo reference="RHipLat">
    <implicitSpringDamper>1</implicitSpringDamper>
    <provideFeedback>true</provideFeedback>
  </gazebo>
  <gazebo reference="RHipYaw">
    <implicitSpringDamper>1</implicitSpringDamper>
    <provideFeedback>true</provideFeedback>
  </gazebo>
  <gazebo reference="RKneeSag">
    <implicitSpringDamper>1</implicitSpringDamper>
    <provideFeedback>true</provideFeedback>
  </gazebo>
  <gazebo reference="RAnkLat">
    <implicitSpringDamper>1</implicitSpringDamper>
    <provideFeedback>true</provideFeedback>
  </gazebo>
  <gazebo reference="RAnkSag">
    <implicitSpringDamper>1</implicitSpringDamper>
    <provideFeedback>true</provideFeedback>
  </gazebo>
  <gazebo reference="LHipSag">
    <implicitSpringDamper>1</implicitSpringDamper>
    <provideFeedback>true</provideFeedback>
  </gazebo>
  <gazebo reference="LHipLat">
    <implicitSpringDamper>1</implicitSpringDamper>
    <provideFeedback>true</provideFeedback>
  </gazebo>
  <gazebo reference="LHipYaw">
    <implicitSpringDamper>1</implicitSpringDamper>
    <provideFeedback>true</provideFeedback>
  </gazebo>
  <gazebo reference="LKneeSag">
    <implicitSpringDamper>1</implicitSpringDamper>
    <provideFeedback>true</provideFeedback>
  </gazebo>
  <gazebo reference="LAnkLat">
    <implicitSpringDamper>1</implicitSpringDamper>
    <provideFeedback>true</provideFeedback>
  </gazebo>
  <gazebo reference="LAnkSag">
    <implicitSpringDamper>1</implicitSpringDamper>
    <provideFeedback>true</provideFeedback>
  </gazebo>
  <!-- gazebo_ros_bumper plugin -->
  <gazebo reference="RFoot">
    <sensor name="box_bumper_sensor" type="contact">
      <always_on>true</always_on>
      <update_rate>50</update_rate>
      <contact>
        <collision>RFoot_collision</collision>
      </contact>
      <plugin filename="libgazebo_ros_bumper.so" name="RFoot_bumper_plugin">
        <bumperTopicName>/bigman/sensor/bumper/RFoot_bumper</bumperTopicName>
        <frameName>base_link</frameName>
      </plugin>
    </sensor>
  </gazebo>
  <!-- gazebo_ros_bumper plugin -->
  <gazebo reference="LFoot">
    <sensor name="box_bumper_sensor" type="contact">
      <always_on>true</always_on>
      <update_rate>50</update_rate>
      <contact>
        <collision>LFoot_collision</collision>
      </contact>
      <plugin filename="libgazebo_ros_bumper.so" name="LFoot_bumper_plugin">
        <bumperTopicName>/bigman/sensor/bumper/LFoot_bumper</bumperTopicName>
        <frameName>base_link</frameName>
      </plugin>
    </sensor>
  </gazebo>
  <gazebo reference="base_link">
    <material>Gazebo/Grey</material>
  </gazebo>
  <gazebo reference="DWL">
    <material>Gazebo/DarkGrey</material>
  </gazebo>
  <gazebo reference="DWS">
    <material>Gazebo/DarkGrey</material>
  </gazebo>
  <gazebo reference="DWYTorso">
    <material>Gazebo/Blue</material>
  </gazebo>
  <gazebo reference="RShp">
    <material>Gazebo/DarkGrey</material>
  </gazebo>
  <gazebo reference="RShr">
    <material>Gazebo/DarkGrey</material>
  </gazebo>
  <gazebo reference="RShy">
    <material>Gazebo/DarkGrey</material>
  </gazebo>
  <gazebo reference="RElb">
    <material>Gazebo/DarkGrey</material>
  </gazebo>
  <gazebo reference="RForearm">
    <material>Gazebo/DarkGrey</material>
  </gazebo>
  <gazebo reference="RWrMot2">
    <material>Gazebo/DarkGrey</material>
  </gazebo>
  <gazebo reference="RWrMot3">
    <material>Gazebo/Blue</material>
  </gazebo>
  <gazebo reference="RRaisingSupport">
    <material>Gazebo/DarkGrey</material>
  </gazebo>
  <gazebo reference="RSoftHand">
    <material>Gazebo/Black</material>
  </gazebo>
  <gazebo reference="LShp">
    <material>Gazebo/DarkGrey</material>
  </gazebo>
  <gazebo reference="LShr">
    <material>Gazebo/DarkGrey</material>
  </gazebo>
  <gazebo reference="LShy">
    <material>Gazebo/DarkGrey</material>
  </gazebo>
  <gazebo reference="LElb">
    <material>Gazebo/DarkGrey</material>
  </gazebo>
  <gazebo reference="LForearm">
    <material>Gazebo/DarkGrey</material>
  </gazebo>
  <gazebo reference="LWrMot2">
    <material>Gazebo/DarkGrey</material>
  </gazebo>
  <gazebo reference="LWrMot3">
    <material>Gazebo/Blue</material>
  </gazebo>
  <gazebo reference="LRaisingSupport">
    <material>Gazebo/DarkGrey</material>
  </gazebo>
  <gazebo reference="LSoftHand">
    <material>Gazebo/Black</material>
  </gazebo>
  <gazebo reference="RHipMot">
    <material>Gazebo/DarkGrey</material>
  </gazebo>
  <gazebo reference="RThighUpLeg">
    <material>Gazebo/DarkGrey</material>
  </gazebo>
  <gazebo reference="RThighLowLeg">
    <material>Gazebo/Grey</material>
  </gazebo>
  <gazebo reference="RLowLeg">
    <material>Gazebo/DarkGrey</material>
  </gazebo>
  <gazebo reference="RFootmot">
    <material>Gazebo/DarkGrey</material>
  </gazebo>
  <gazebo reference="RFoot">
    <material>Gazebo/DarkGrey</material>
  </gazebo>
  <gazebo reference="LHipMot">
    <material>Gazebo/DarkGrey</material>
  </gazebo>
  <gazebo reference="LThighUpLeg">
    <material>Gazebo/DarkGrey</material>
  </gazebo>
  <gazebo reference="LThighLowLeg">
    <material>Gazebo/Grey</material>
  </gazebo>
  <gazebo reference="LLowLeg">
    <material>Gazebo/DarkGrey</material>
  </gazebo>
  <gazebo reference="LFootmot">
    <material>Gazebo/DarkGrey</material>
  </gazebo>
  <gazebo reference="LFoot">
    <material>Gazebo/DarkGrey</material>
  </gazebo>
  <gazebo reference="head">
    <material>Gazebo/DarkGrey</material>
  </gazebo>
  <gazebo reference="hokuyo_link">
    <material>Gazebo/Black</material>
  </gazebo>
  <gazebo reference="NeckYaw">
    <material>Gazebo/Grey</material>
  </gazebo>
  <gazebo reference="NeckPitch">
    <material>Gazebo/Grey</material>
  </gazebo>
</robot>
